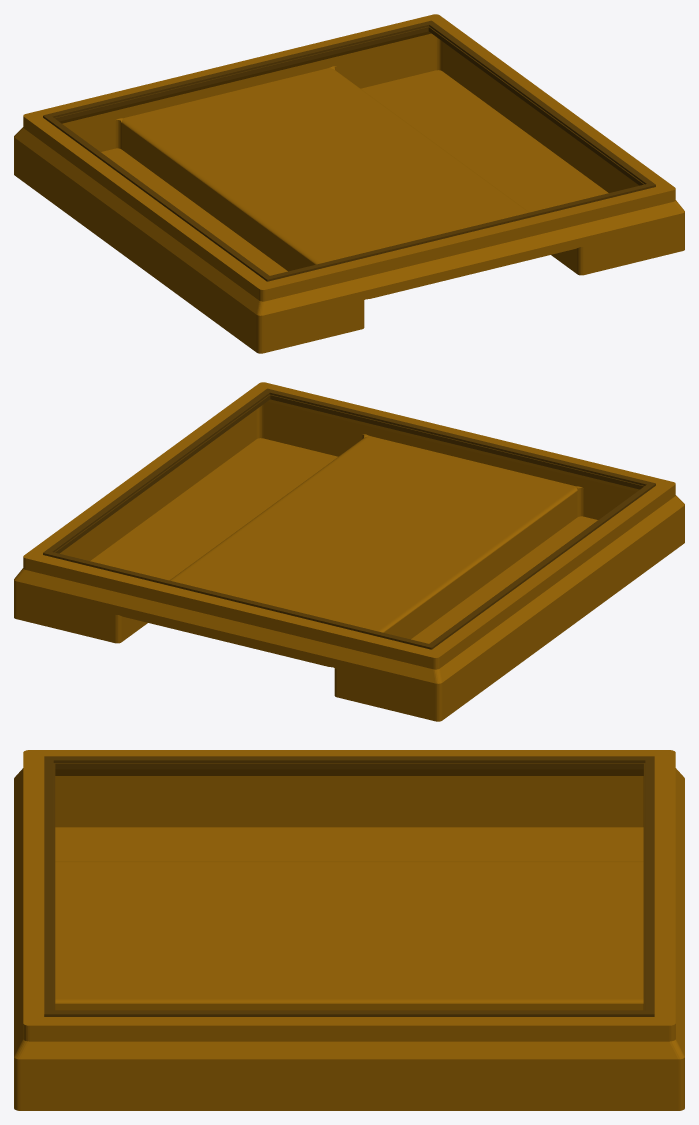
Rendered from ChessTable.glb.
The picture shows the model from 3 angles, top to bottom: view 1: azimuth 30°, elevation 25°; view 2: azimuth 150°, elevation 25°; view 3: azimuth 270°, elevation 25°; orthographic projection. The views are drawn at different scales.
Parts seen in each view (by area): view 1: ChessTable; view 2: ChessTable; view 3: ChessTable.
Boxes of the visible parts, box(x1,y1,x2,y2) form: ChessTable: box(14, 14, 684, 353); ChessTable: box(14, 382, 684, 721); ChessTable: box(14, 750, 684, 1110).
Size of the model in its own units: 0.1824 by 0.0252 by 0.1824.
